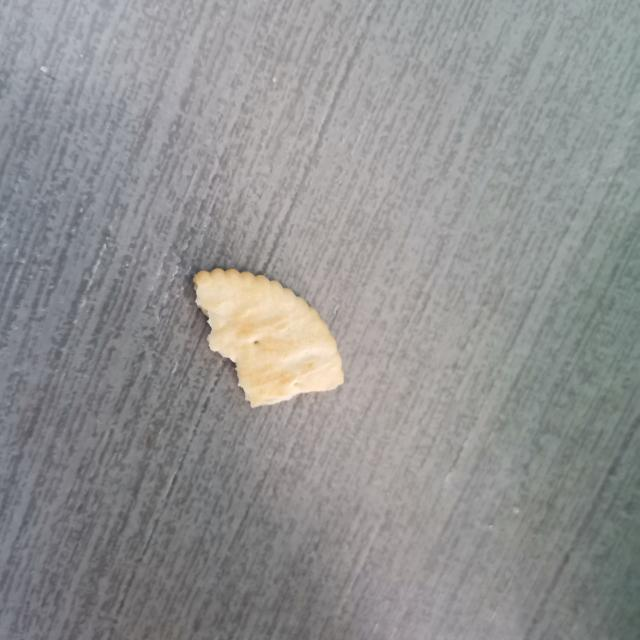Broken: (191, 266, 345, 409)
